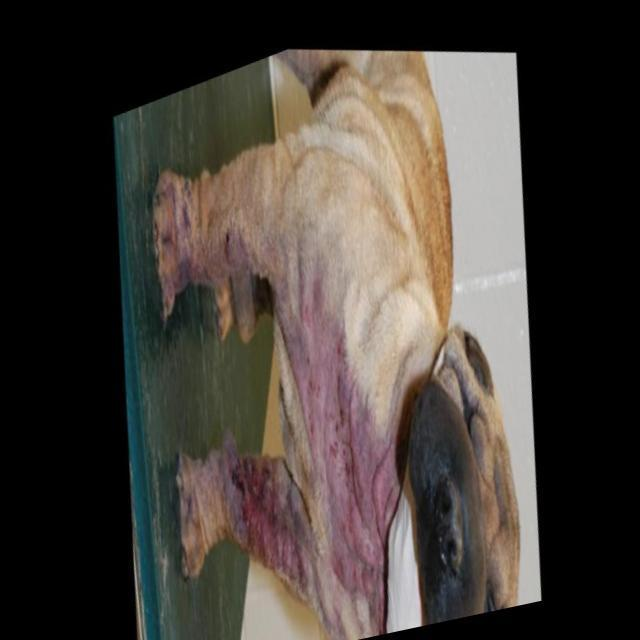mange: (215, 284, 400, 629), (157, 175, 270, 303)
